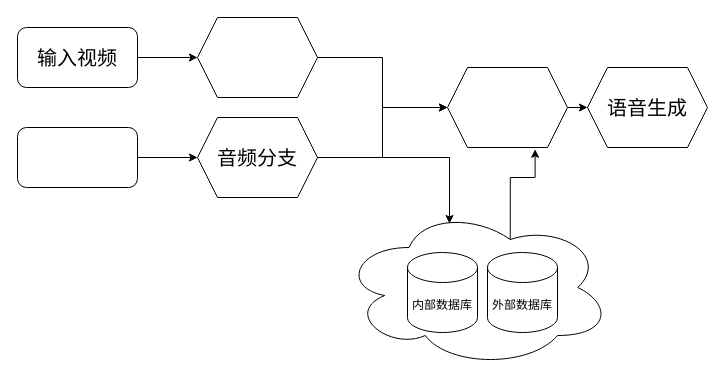
Image size: 725x385. Some labels were removed from this diagram. The shapes that lost their labels are listed below. From the top down, each one's centre as x and y in pixels, then its label:
(x=257, y=57): 视频分支
(x=507, y=107): 文本生成
(x=77, y=157): 输入音频
